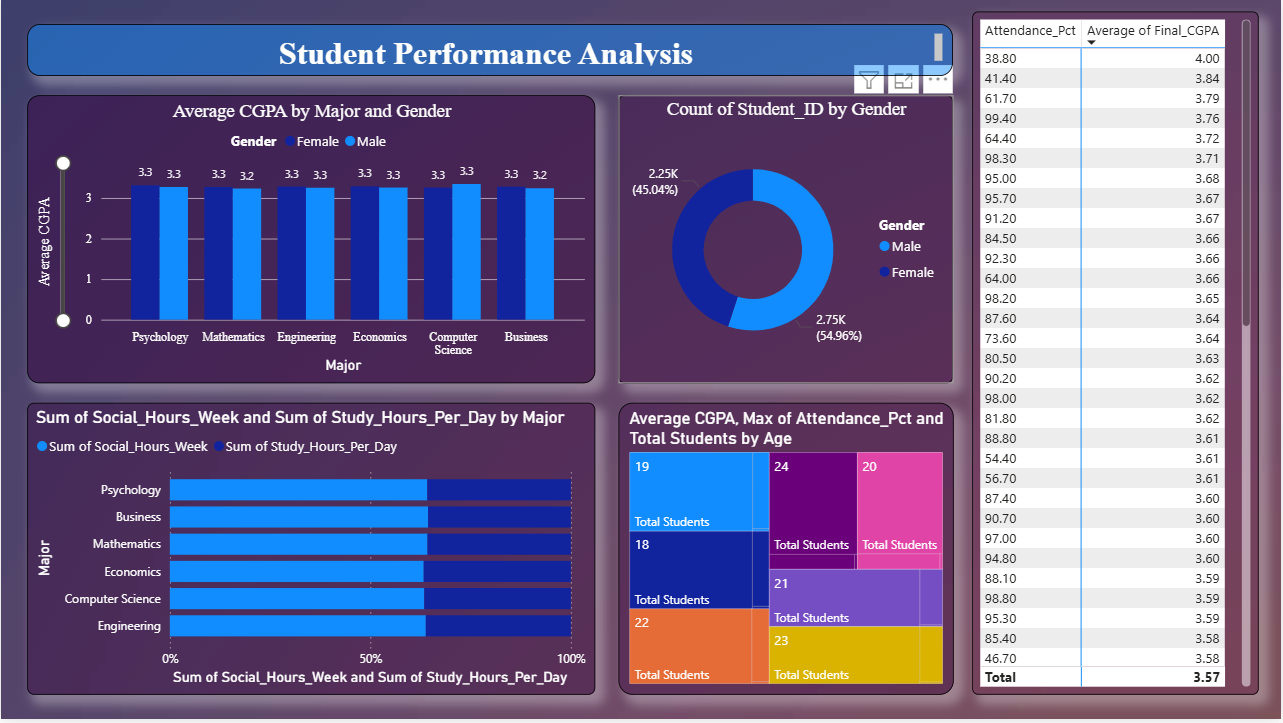

What the dashboard file says about the page in this screenshot:
{"tool":"powerbi","page":{"name":"Page 2","canvas":[1280,720],"ordinal":1},"visuals":[{"type":"clusteredColumnChart","fields":{"Category":["Student_data.Major"],"Y":["Student_data.Average CGPA"],"Series":["Student_data.Gender"]},"box":[26.7,96.1,567.8,288.3],"z":0},{"type":"pivotTable","fields":{"Rows":["Student_data.Attendance_Pct"],"Values":["Avg(Student_data.Final_CGPA)"]},"box":[971.8,12.5,286.5,683.4],"z":1000},{"type":"donutChart","fields":{"Category":["Student_data.Gender"],"Y":["CountNonNull(Student_data.Student_ID)"]},"box":[617.6,96.1,334.6,288.3],"z":2000},{"type":"hundredPercentStackedBarChart","fields":{"Y":["Sum(Student_data.Social_Hours_Week)","Sum(Student_data.Study_Hours_Per_Day)"],"Category":["Student_data.Major"]},"box":[26.7,404,567.8,291.9],"z":3000},{"type":"treemap","fields":{"Values":["Student_data.Average CGPA","Max(Student_data.Attendance_Pct)","Student_data.Total Students"],"Group":["Student_data.Age"]},"box":[618,404,335,292],"z":3001},{"type":"textbox","box":[26.7,24.9,925.5,51.6],"z":3002}]}

Visuals, with their boxes in screenshot pixels (x1, y1, x2, y2), scaled from the page's 1280x720 canvas onto the 1283x723 screenshot:
clusteredColumnChart - Student_data.Major x Student_data.Average CGPA: pyautogui.locateOnScreen(27, 97, 596, 386)
pivotTable - Student_data.Attendance_Pct x Avg(Student_data.Final_CGPA): pyautogui.locateOnScreen(974, 13, 1261, 699)
donutChart - Student_data.Gender x CountNonNull(Student_data.Student_ID): pyautogui.locateOnScreen(619, 97, 954, 386)
hundredPercentStackedBarChart - Sum(Student_data.Social_Hours_Week) x Sum(Student_data.Study_Hours_Per_Day): pyautogui.locateOnScreen(27, 406, 596, 699)
treemap - Student_data.Average CGPA x Max(Student_data.Attendance_Pct): pyautogui.locateOnScreen(619, 406, 955, 699)
textbox: pyautogui.locateOnScreen(27, 25, 954, 77)
